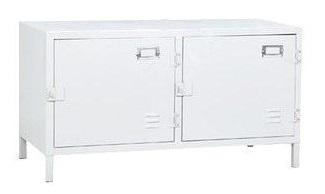cabinet_door: (53, 40, 175, 144), (181, 35, 298, 143)
